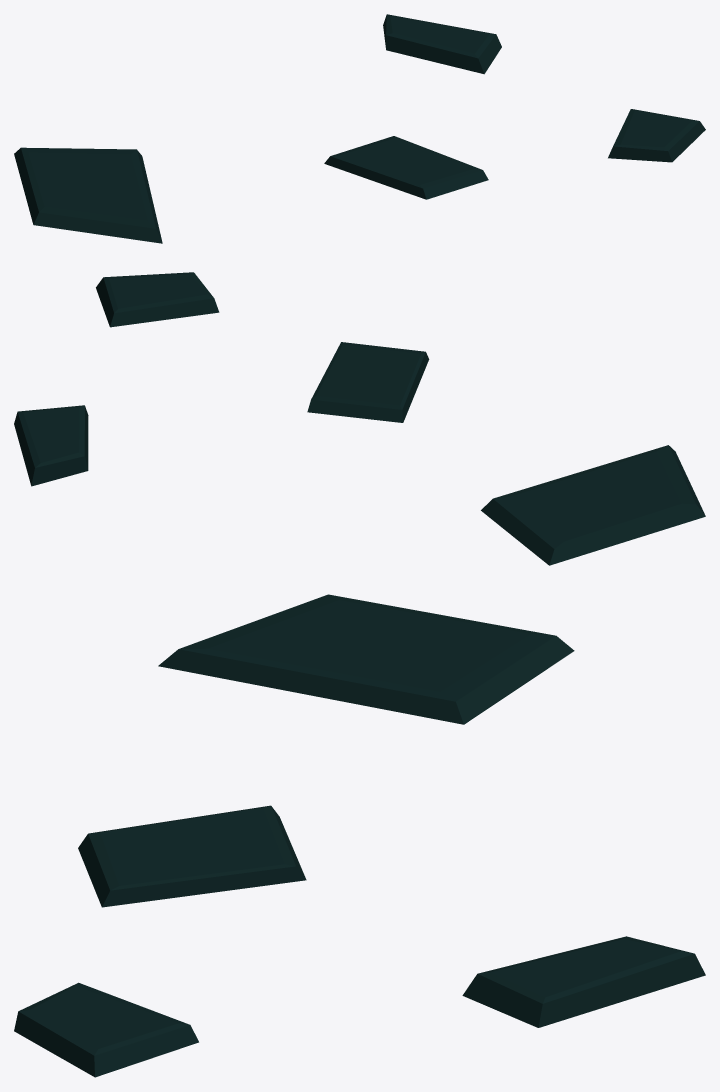
The model's file is rocks003_stone_0_lev1.glb.
3 renders of one model, top to bottom at view 1: azimuth 30°, elevation 25°; view 2: azimuth 150°, elevation 25°; view 3: azimuth 270°, elevation 25°, orthographic. The views are drawn at different scales.
Visible parts, largest first — view 1: rocks003_stone_0_lev1; view 2: rocks003_stone_0_lev1; view 3: rocks003_stone_0_lev1.
Part boxes in pixels (x1=…): rocks003_stone_0_lev1: x1=14, y1=14, x2=705, y2=243; rocks003_stone_0_lev1: x1=14, y1=272, x2=705, y2=565; rocks003_stone_0_lev1: x1=14, y1=594, x2=705, y2=1077.
Bounding box in the file's own units: 1.35 × 0.0316 × 0.8321.
